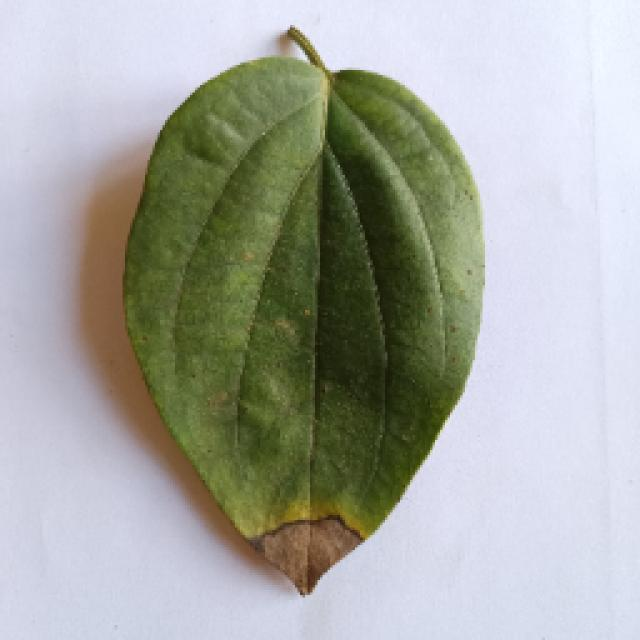footrot: (110, 38, 495, 592)
